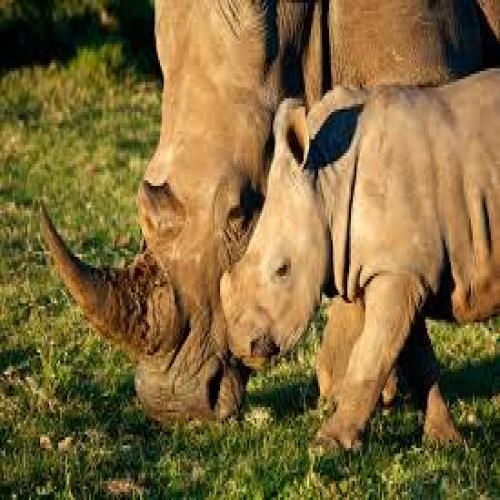rhino-endangered: (23, 3, 499, 406), (220, 61, 500, 455)
